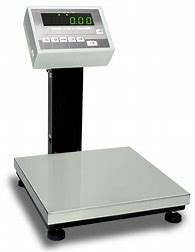Industrial Scale: (13, 6, 191, 242)
